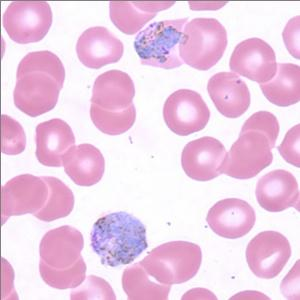Infected: (132, 18, 204, 71), (91, 210, 149, 270)
Uninfected: (216, 130, 274, 180), (142, 239, 202, 284), (245, 230, 293, 281), (181, 18, 229, 69), (16, 48, 65, 95), (180, 135, 228, 182), (164, 88, 211, 136), (2, 0, 53, 44), (14, 70, 60, 118), (229, 37, 277, 83), (208, 71, 252, 119), (75, 25, 124, 68), (206, 198, 257, 239), (35, 118, 77, 167), (59, 144, 105, 188), (39, 224, 85, 268), (92, 70, 138, 113), (257, 61, 300, 107), (4, 173, 50, 216), (123, 260, 171, 300), (255, 170, 298, 212), (88, 98, 136, 135), (40, 254, 88, 289), (38, 175, 73, 223), (239, 110, 280, 150)
